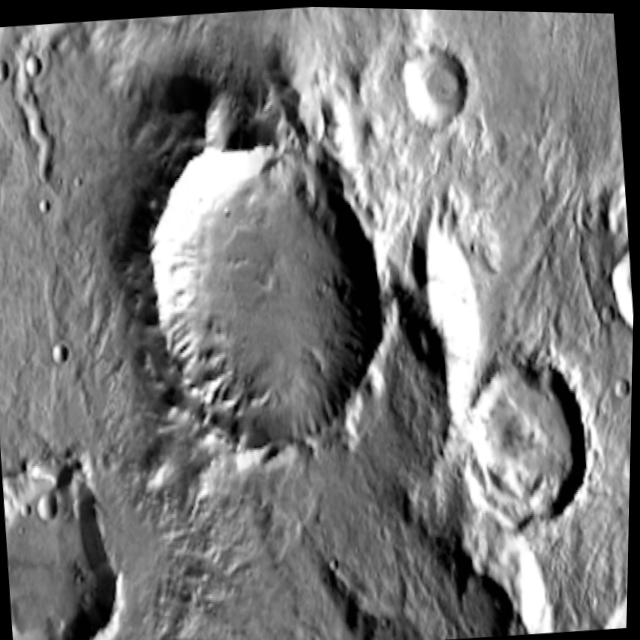Crater: (109, 86, 422, 483), (444, 327, 603, 551), (0, 440, 138, 640)
